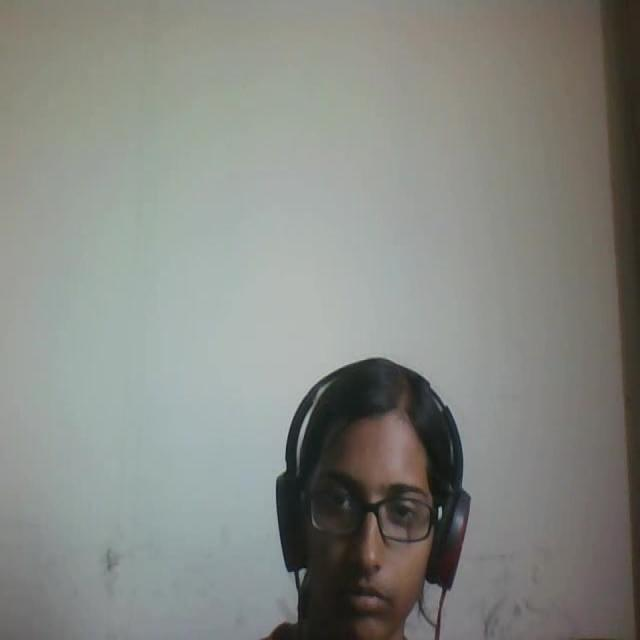Engaged: (252, 328, 478, 640)
